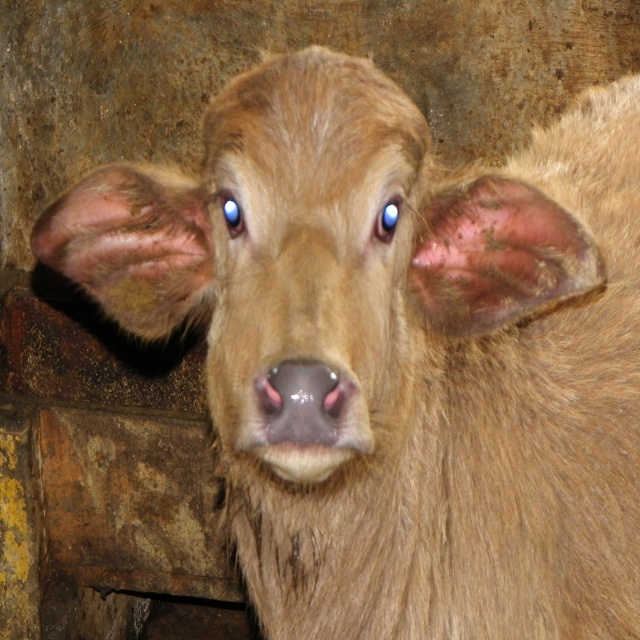Cattle: (23, 0, 607, 640)
